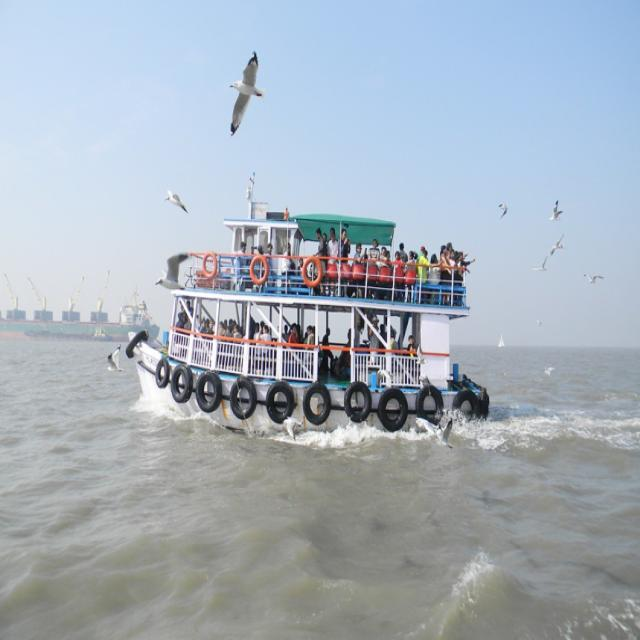houseboat: (114, 155, 493, 435)
